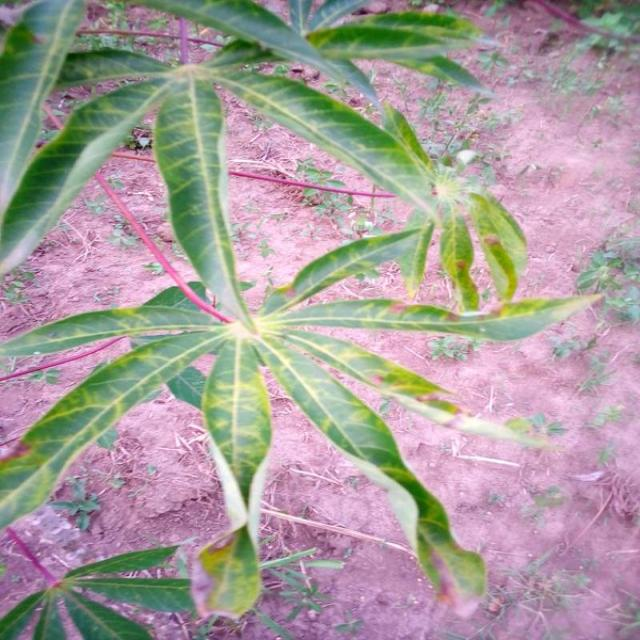cassava leaf: (2, 1, 604, 629), (153, 64, 254, 325)
